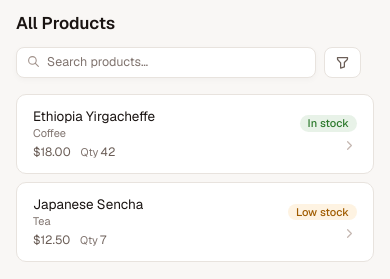
searching products › types in the search bar, waits for the debounce delay, and refetches with the correct search term
Expected: the text "Ethiopia Yirgacheffe" is shown, top-left (33, 107), bottom-right (155, 125)
// Type in the search bar
In the search field labelled "Search products": (166, 63) top-left (16, 48), bottom-right (316, 78), type "sencha"
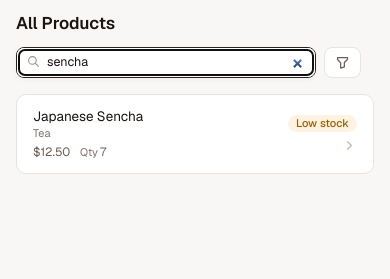
Expected: the text "Japanese Sencha" is shown, top-left (33, 107), bottom-right (143, 125)
Expected: the link "Ethiopia Yirgacheffe" is gone
